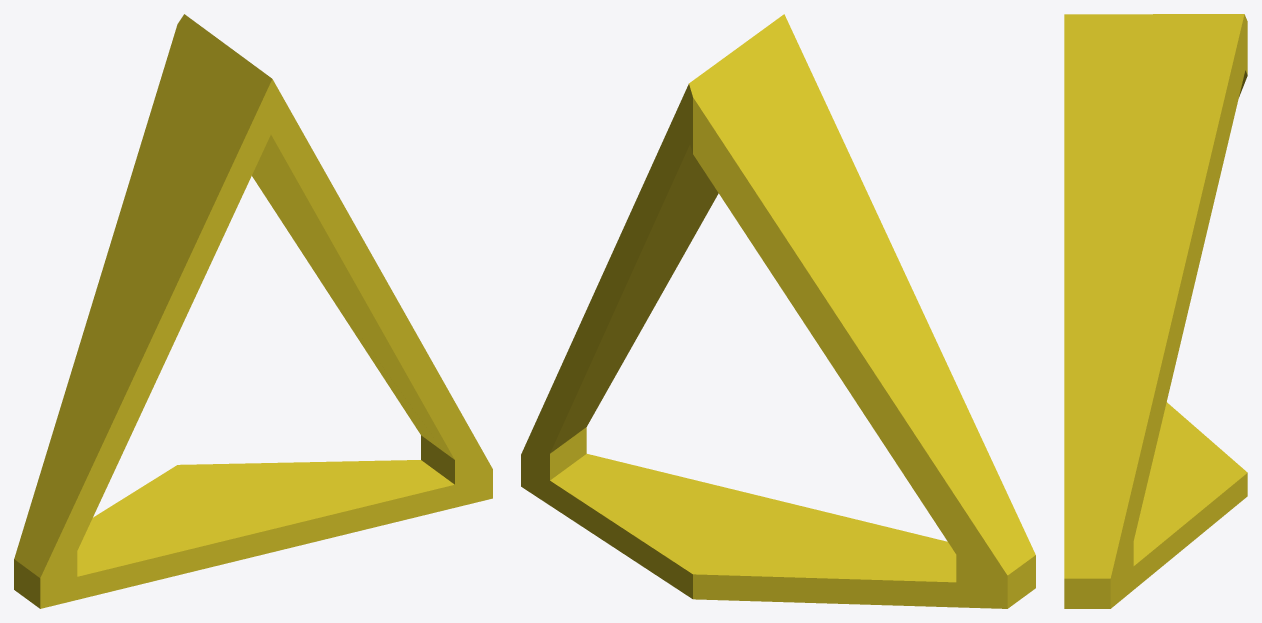
The model's file is asset.gltf.
3 renders of one model, left to right at view 1: azimuth 30°, elevation 25°; view 2: azimuth 150°, elevation 25°; view 3: azimuth 270°, elevation 25°, orthographic. The views are drawn at different scales.
Parts seen in each view (by area): view 1: Cube.001; view 2: Cube.001; view 3: Cube.001.
Part boxes in pixels (bbox=[...]): Cube.001: bbox=[14, 14, 492, 608]; Cube.001: bbox=[521, 14, 1035, 608]; Cube.001: bbox=[1064, 14, 1247, 608].
Size of the model in its own units: 1.95 by 1.95 by 0.6699.
